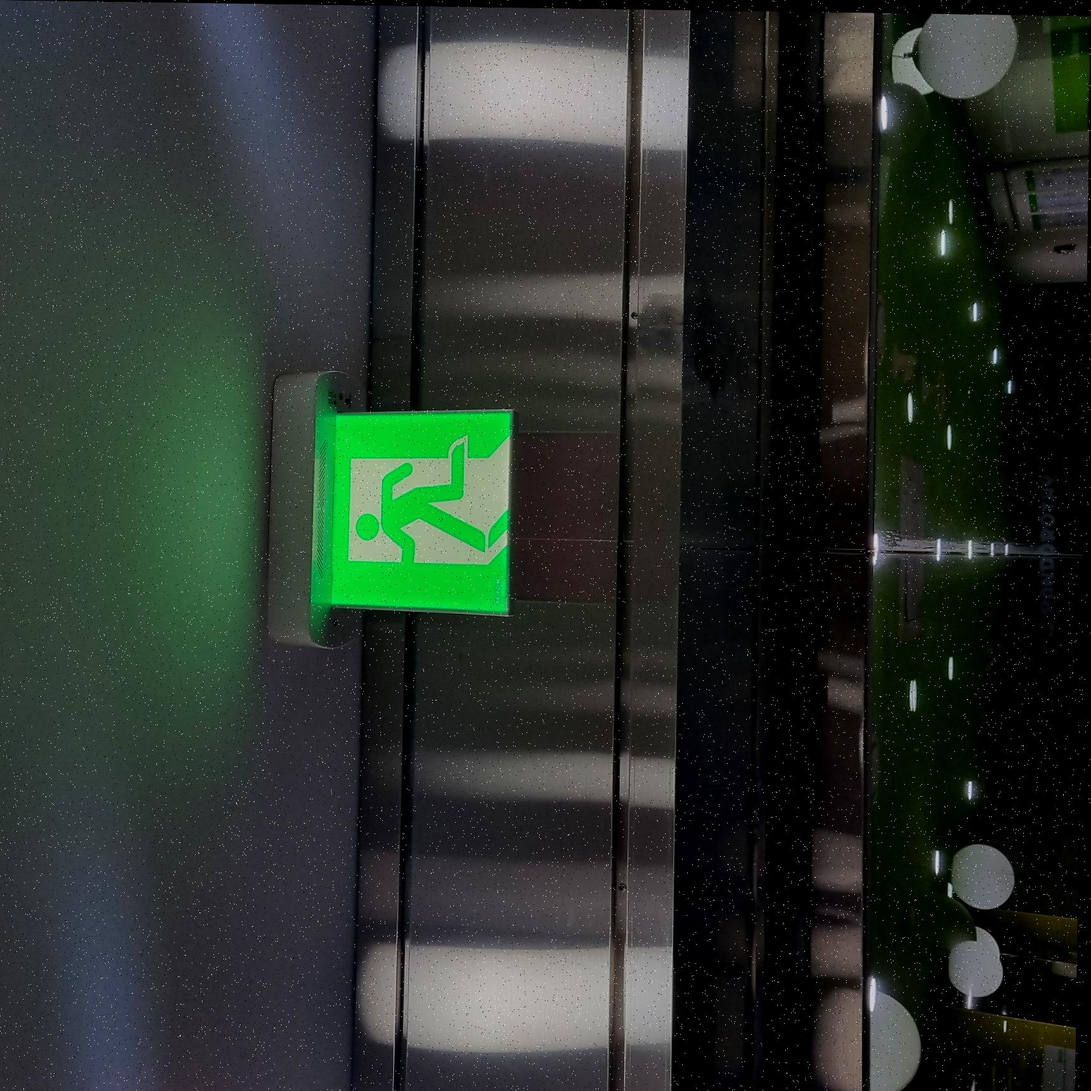emergency_exit: (269, 369, 518, 649), (313, 404, 516, 619)
